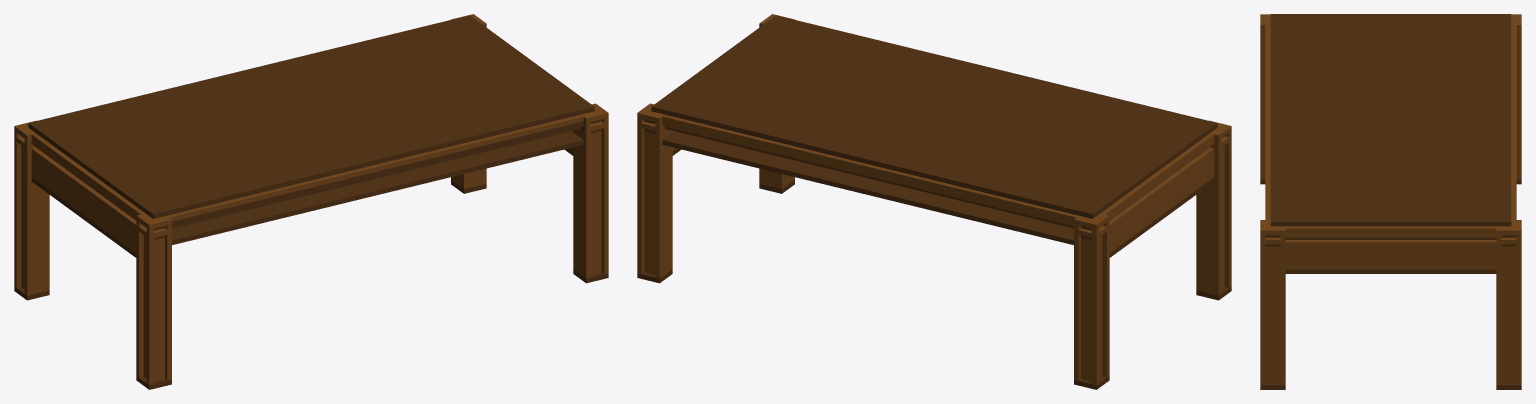
File: mesa_jantar.obj
3 views of the same model, side by side, from view 1: azimuth 30°, elevation 25°; view 2: azimuth 150°, elevation 25°; view 3: azimuth 270°, elevation 25° (orthographic). The views are drawn at different scales.
Visible parts, largest first — view 1: mesa_jantar; view 2: mesa_jantar; view 3: mesa_jantar.
Part boxes in pixels (x1=…): mesa_jantar: x1=14, y1=14, x2=608, y2=389; mesa_jantar: x1=637, y1=14, x2=1231, y2=389; mesa_jantar: x1=1260, y1=14, x2=1521, y2=389.
Bounding box in the file's own units: 102 × 36 × 52.
Materials: 1 (1 with a texture image).
